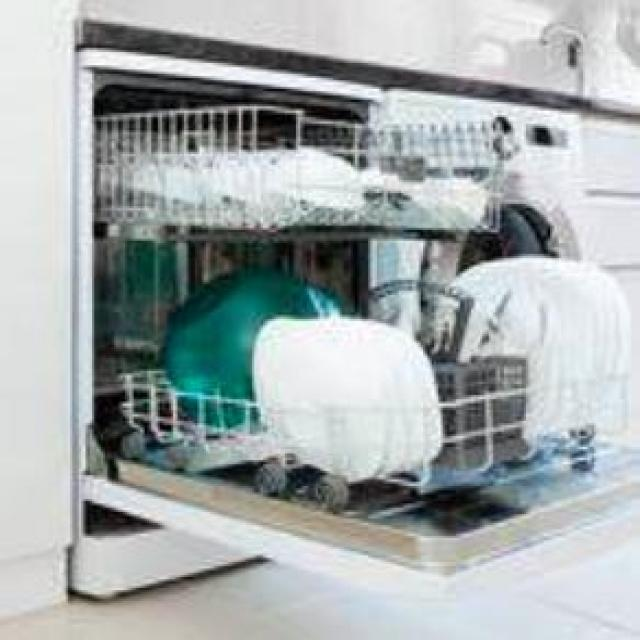dishwasher: (77, 43, 638, 586)
